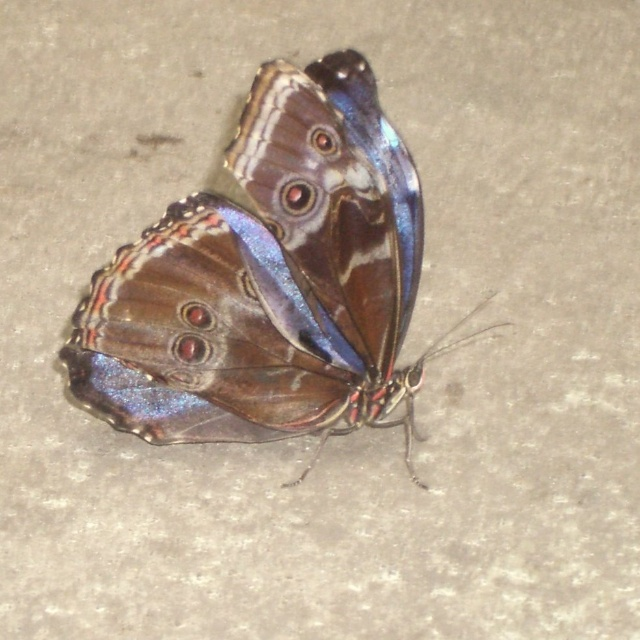Butterfly: (65, 70, 539, 466)
